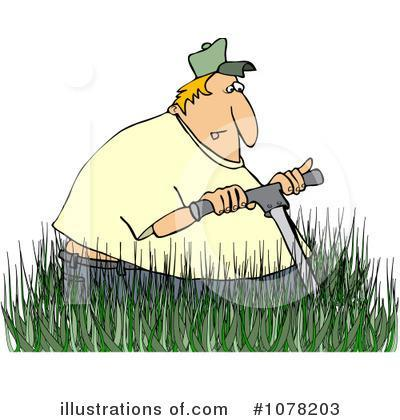person: (39, 39, 346, 313)
